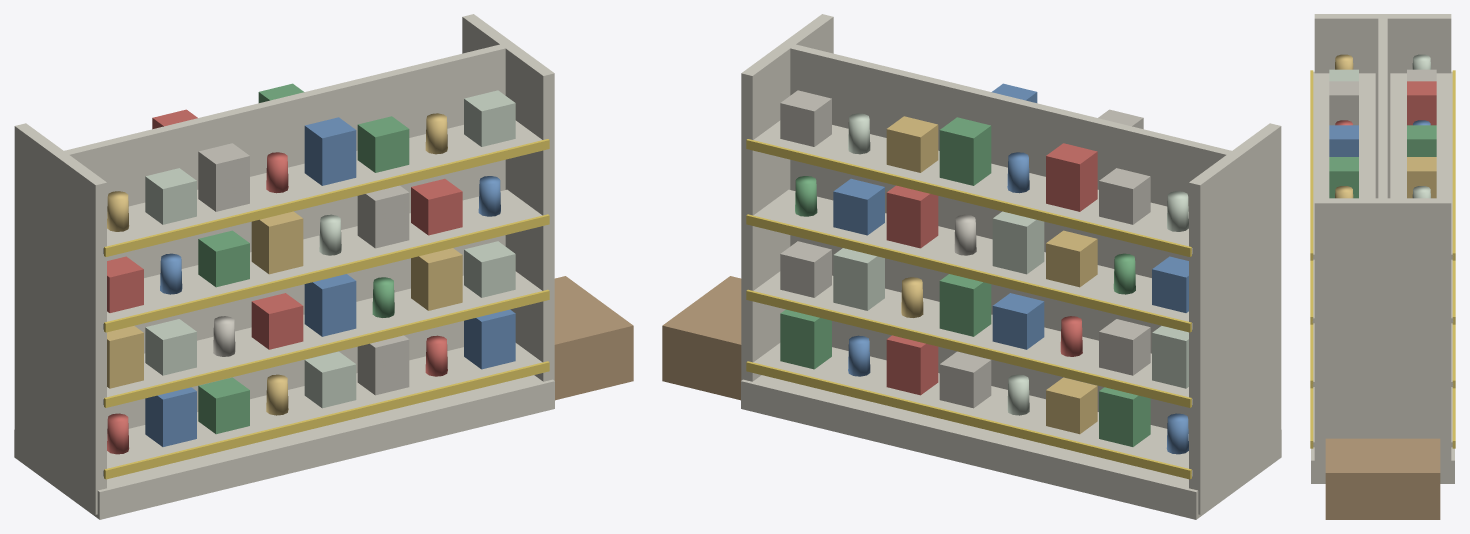
File: grocery_display_island.glb
The picture shows the model from 3 angles, left to right: view 1: azimuth 30°, elevation 25°; view 2: azimuth 150°, elevation 25°; view 3: azimuth 270°, elevation 25°; orthographic projection. The views are drawn at different scales.
Parts seen in each view (by area): view 1: CenterSpine, EndPost_-1.18, Plinth, EndPost_1.18, Shelf_2_-0.21, BreadCrate, Shelf_0_-0.21, Shelf_3_-0.21, Shelf_1_-0.21, PriceRail_0_-0.21, PriceRail_1_-0.21, PriceRail_2_-0.21 (+33 smaller); view 2: CenterSpine, EndPost_-1.18, Plinth, EndPost_1.18, BreadCrate, Shelf_2_0.21, Shelf_3_0.21, Shelf_0_0.21, Shelf_1_0.21, PriceRail_0_0.21, PriceRail_1_0.21, PriceRail_2_0.21 (+33 smaller); view 3: EndPost_1.18, BreadCrate, EndPost_-1.18, Shelf_3_0.21, Shelf_3_-0.21, CenterSpine, Box_3_0.21_2, Box_3_-0.21_2, Box_3_0.21_5, Box_3_-0.21_5, Box_3_0.21_4, Box_3_-0.21_4 (+15 smaller).
Part boxes in pixels (box(x1,y1,x2,y2)): CenterSpine: box(64, 44, 505, 433); EndPost_-1.18: box(14, 123, 106, 514); Plinth: box(14, 375, 554, 519); EndPost_1.18: box(462, 14, 554, 381); Shelf_2_-0.21: box(103, 189, 542, 329); BreadCrate: box(554, 276, 633, 400); Shelf_0_-0.21: box(103, 343, 542, 476); Shelf_3_-0.21: box(103, 120, 541, 253); Shelf_1_-0.21: box(103, 271, 542, 404); PriceRail_0_-0.21: box(104, 361, 549, 479); PriceRail_1_-0.21: box(104, 289, 549, 407); PriceRail_2_-0.21: box(104, 214, 549, 332); CenterSpine: box(790, 44, 1231, 433); EndPost_-1.18: box(1189, 123, 1281, 514); Plinth: box(741, 375, 1281, 519); EndPost_1.18: box(741, 14, 833, 381); BreadCrate: box(662, 276, 741, 400); Shelf_2_0.21: box(753, 189, 1192, 329); Shelf_3_0.21: box(754, 120, 1192, 254); Shelf_0_0.21: box(753, 343, 1192, 476); Shelf_1_0.21: box(753, 271, 1192, 404); PriceRail_0_0.21: box(746, 361, 1191, 479); PriceRail_1_0.21: box(746, 289, 1191, 407); PriceRail_2_0.21: box(746, 214, 1191, 332); EndPost_1.18: box(1314, 198, 1451, 481); BreadCrate: box(1325, 438, 1440, 519); EndPost_-1.18: box(1314, 14, 1451, 198); Shelf_3_0.21: box(1390, 71, 1453, 259); Shelf_3_-0.21: box(1313, 71, 1375, 259); CenterSpine: box(1378, 18, 1387, 198); Box_3_0.21_2: box(1407, 81, 1436, 125); Box_3_-0.21_2: box(1329, 81, 1358, 125); Box_3_0.21_5: box(1407, 157, 1436, 198); Box_3_-0.21_5: box(1329, 157, 1358, 198); Box_3_0.21_4: box(1407, 125, 1436, 156); Box_3_-0.21_4: box(1329, 125, 1358, 156).
Bounding box in the file's own units: 2.87 × 1.68 × 0.785.
